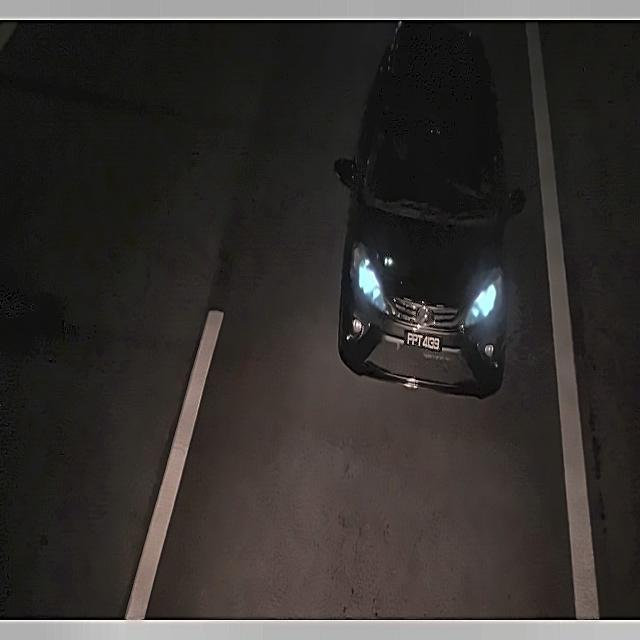car: (397, 319, 446, 362)
